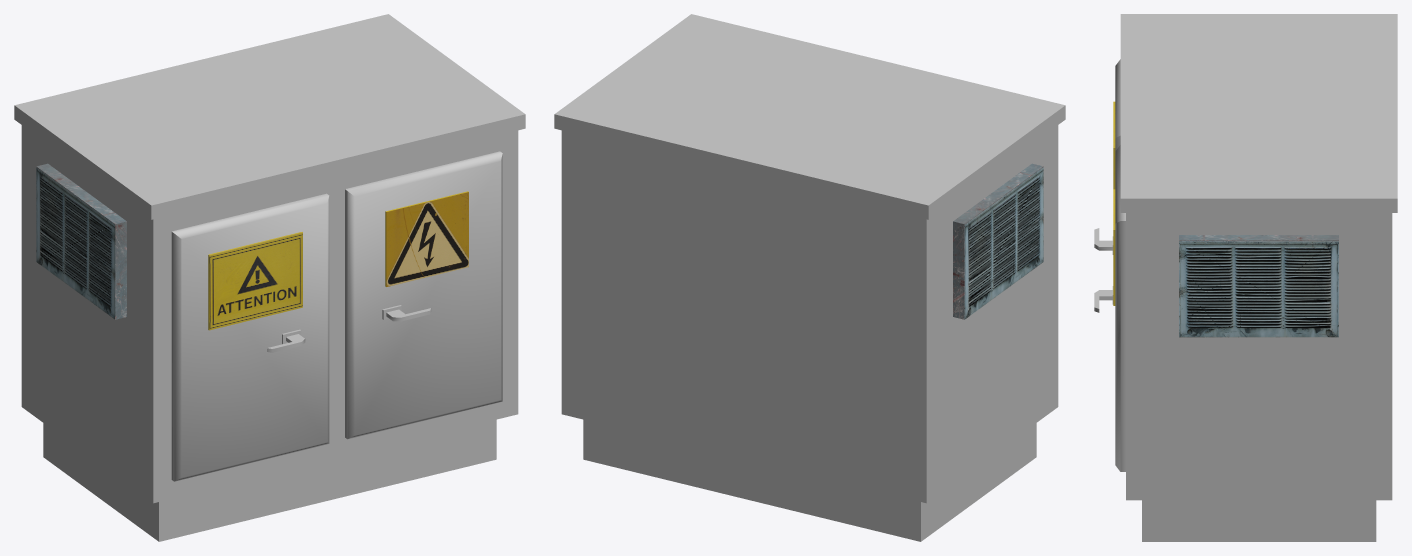
File: electrical_box03.fbx
3 renders of one model, left to right at view 1: azimuth 30°, elevation 25°; view 2: azimuth 150°, elevation 25°; view 3: azimuth 270°, elevation 25°, orthographic.
Visible parts, largest first — view 1: Mesh Object; view 2: Mesh Object; view 3: Mesh Object.
Boxes of the visible parts, bbox=[...] form: Mesh Object: bbox=[14, 14, 525, 541]; Mesh Object: bbox=[554, 14, 1065, 541]; Mesh Object: bbox=[1094, 14, 1397, 541].
Bounding box in the file's own units: 2 × 1.72 × 1.34.
